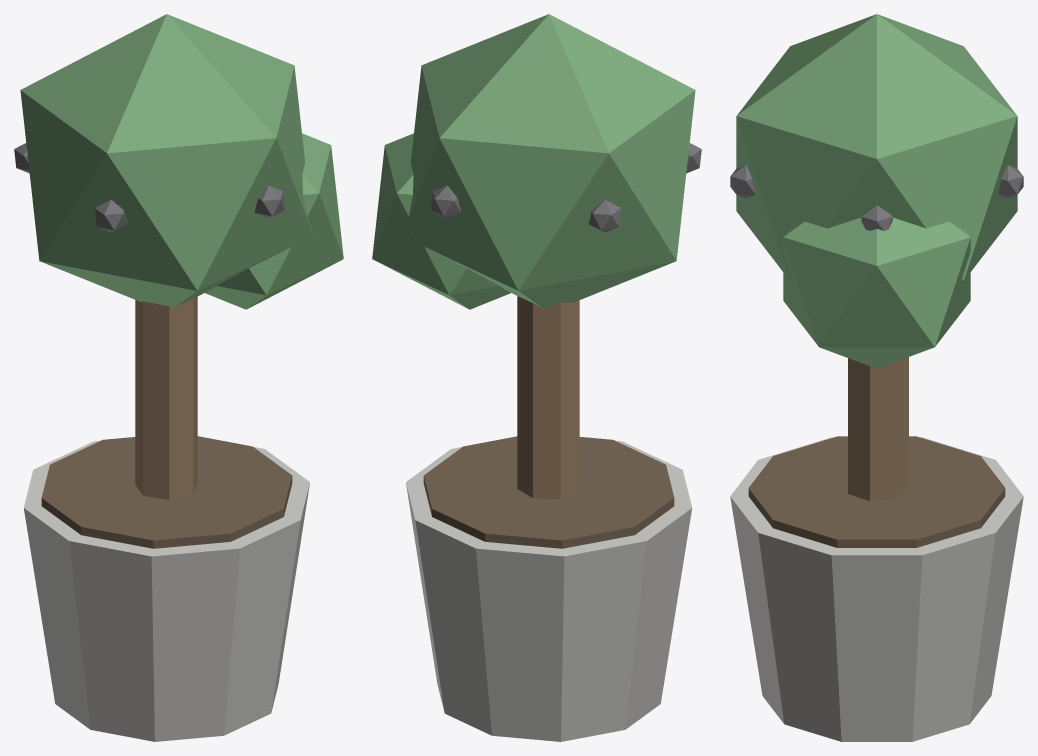
The model's file is pla_oliveira2.glb.
3 views of the same model, side by side, from view 1: azimuth 30°, elevation 25°; view 2: azimuth 150°, elevation 25°; view 3: azimuth 270°, elevation 25° (orthographic).
Parts seen in each view (by area): view 1: PLA_OLIVEIRA2_v01; view 2: PLA_OLIVEIRA2_v01; view 3: PLA_OLIVEIRA2_v01.
Boxes of the visible parts, x1,y1,x2,y2 form: PLA_OLIVEIRA2_v01: (14,14,343,741); PLA_OLIVEIRA2_v01: (372,14,701,741); PLA_OLIVEIRA2_v01: (730,14,1023,741).
Bounding box in the file's own units: 0.3683 × 0.82 × 0.32.
